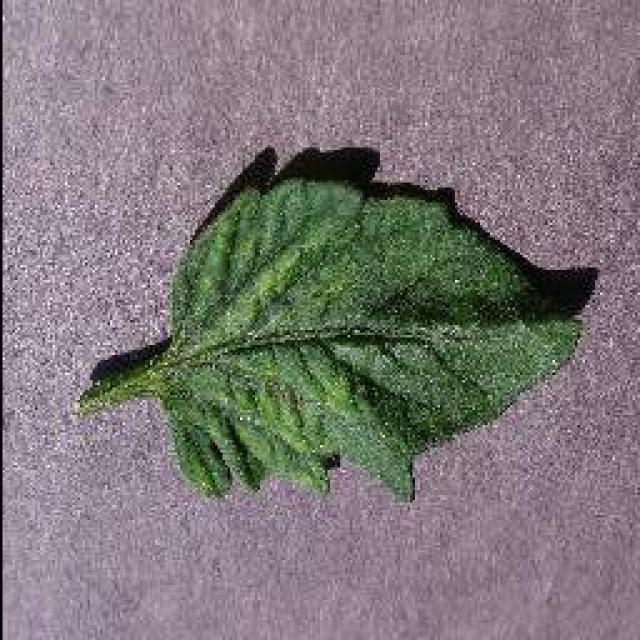Tomato___Tomato_mosaic_virus: (80, 178, 578, 498)
